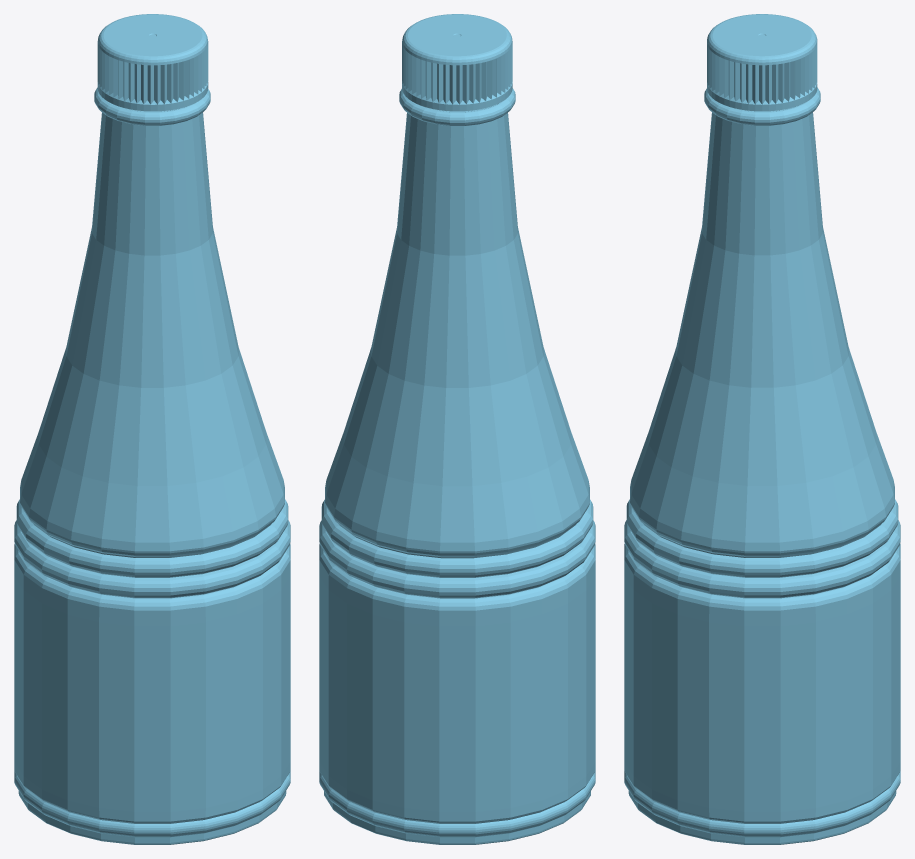
The picture shows the model from 3 angles, left to right: view 1: azimuth 30°, elevation 25°; view 2: azimuth 150°, elevation 25°; view 3: azimuth 270°, elevation 25°; orthographic projection.
Size of the model in its own units: 0.3006 by 0.9051 by 0.3006.
